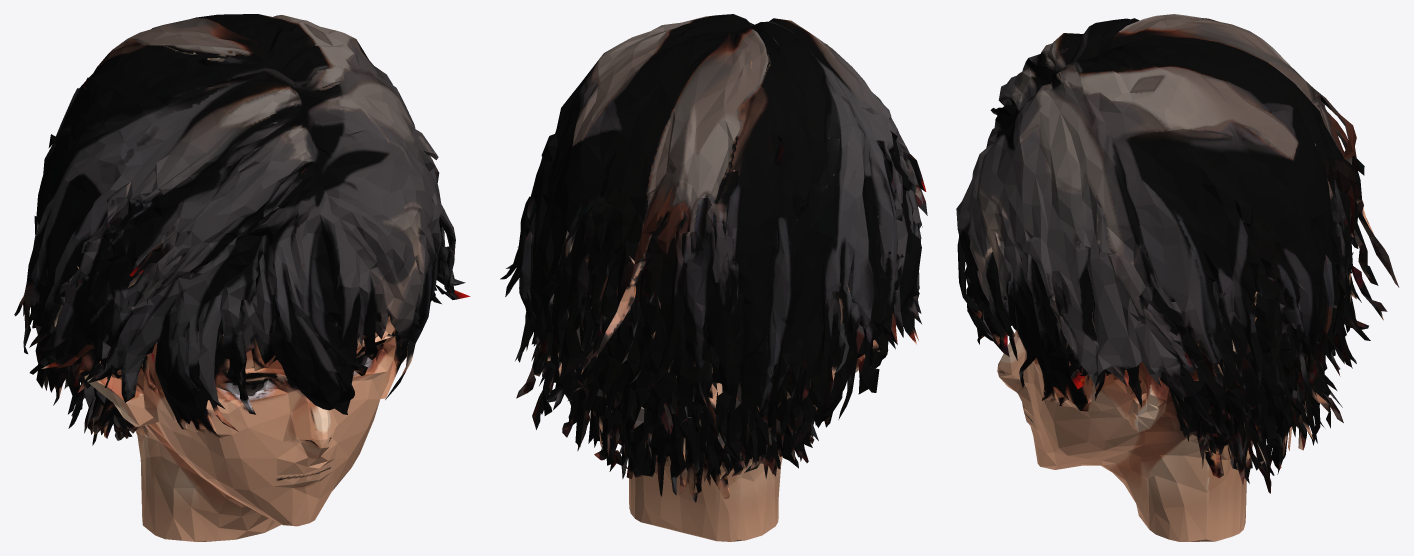
File: side_h_tsuruchi_repaired_atlas.glb
3 views of the same model, side by side, from view 1: azimuth 30°, elevation 25°; view 2: azimuth 150°, elevation 25°; view 3: azimuth 270°, elevation 25° (orthographic). The views are drawn at different scales.
Parts seen in each view (by area): view 1: temp_mesh.ply; view 2: temp_mesh.ply; view 3: temp_mesh.ply.
Part boxes in pixels (left/top/right/bottom): temp_mesh.ply: left=14, top=14, right=470, bottom=541; temp_mesh.ply: left=500, top=14, right=927, bottom=541; temp_mesh.ply: left=956, top=14, right=1399, bottom=541.
Size of the model in its own units: 1.68 by 1.97 by 1.67.
1 material, 1 textured.
